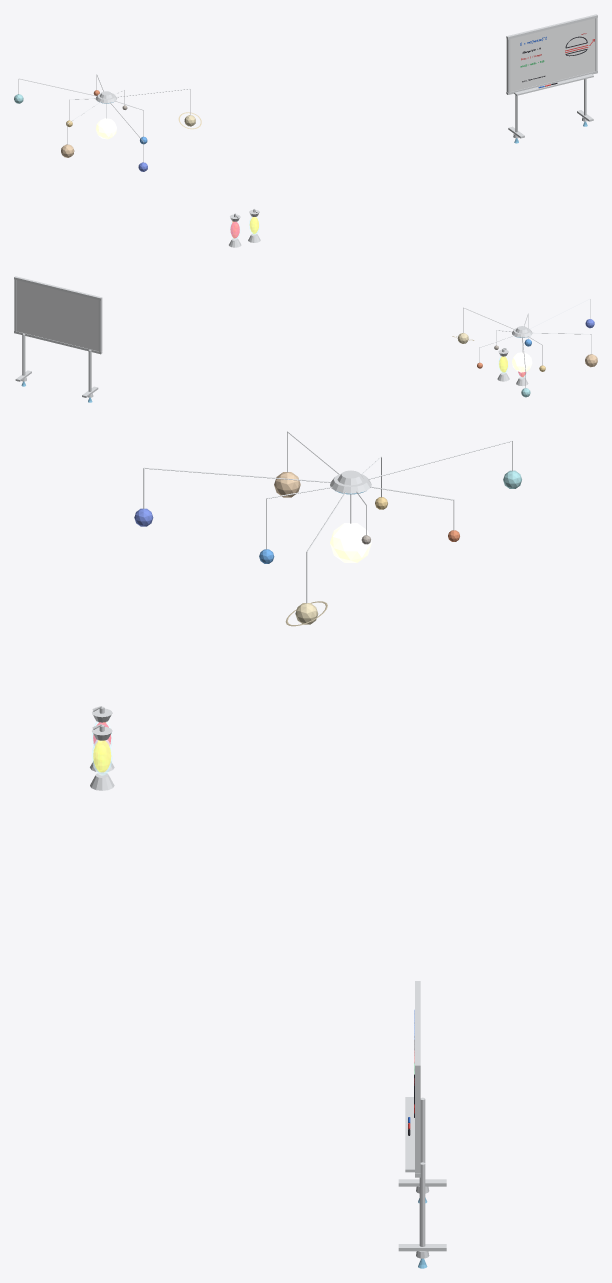
Rendered from Props_Space.fbx.
3 renders of one model, top to bottom at view 1: azimuth 30°, elevation 25°; view 2: azimuth 150°, elevation 25°; view 3: azimuth 270°, elevation 25°, orthographic. The views are drawn at different scales.
Parts seen in each view (by area): view 1: Whiteboard_Equations, SolarSystem_Mobile, LavaLamp_Ketchup, LavaLamp_Mustard; view 2: Whiteboard_Equations, SolarSystem_Mobile, LavaLamp_Mustard; view 3: SolarSystem_Mobile, Whiteboard_Equations, LavaLamp_Mustard.
Part boxes in pixels (x1,y1,x2,y2): Whiteboard_Equations: [506, 14, 597, 143]; SolarSystem_Mobile: [14, 74, 201, 171]; LavaLamp_Ketchup: [229, 213, 241, 247]; LavaLamp_Mustard: [248, 208, 260, 242]; Whiteboard_Equations: [14, 276, 102, 402]; SolarSystem_Mobile: [452, 299, 597, 397]; LavaLamp_Mustard: [497, 348, 509, 381]; SolarSystem_Mobile: [134, 431, 521, 626]; Whiteboard_Equations: [398, 981, 446, 1268]; LavaLamp_Mustard: [90, 724, 114, 790].
Size of the model in its own units: 13.27 by 3.73 by 4.52.
